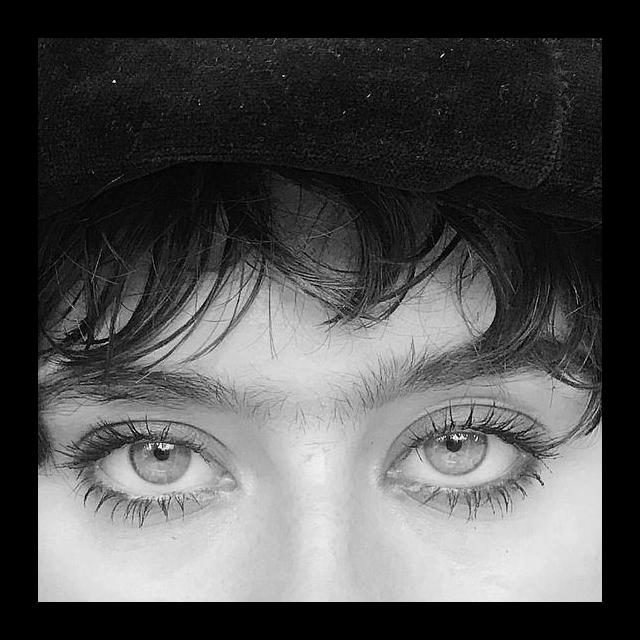eye: (396, 423, 523, 492), (97, 434, 219, 501)
iris: (422, 426, 490, 477), (130, 437, 192, 487)
